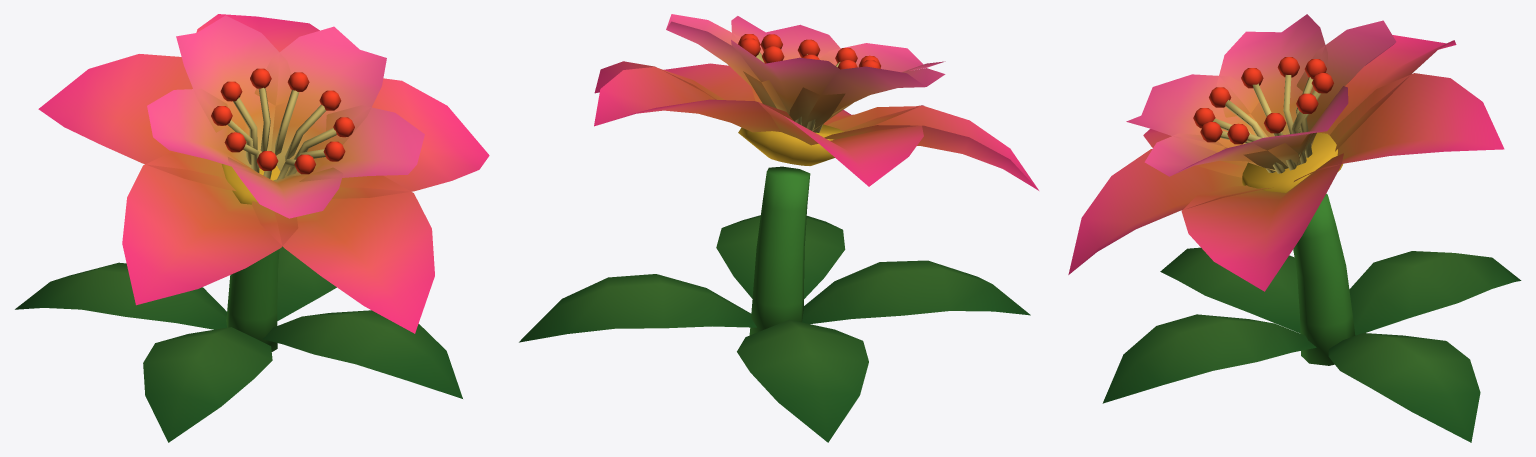
Rendered from giant_flower.glb.
3 views of the same model, side by side, from view 1: azimuth 30°, elevation 25°; view 2: azimuth 150°, elevation 25°; view 3: azimuth 270°, elevation 25° (orthographic). The views are drawn at different scales.
Visible parts, largest first — view 1: giant_flower; view 2: giant_flower; view 3: giant_flower.
Part boxes in pixels (x1,y1,x2,y2): giant_flower: [15, 14, 489, 442]; giant_flower: [519, 14, 1038, 442]; giant_flower: [1068, 14, 1521, 442].
Size of the model in its own units: 1.56 by 1.16 by 1.52.
